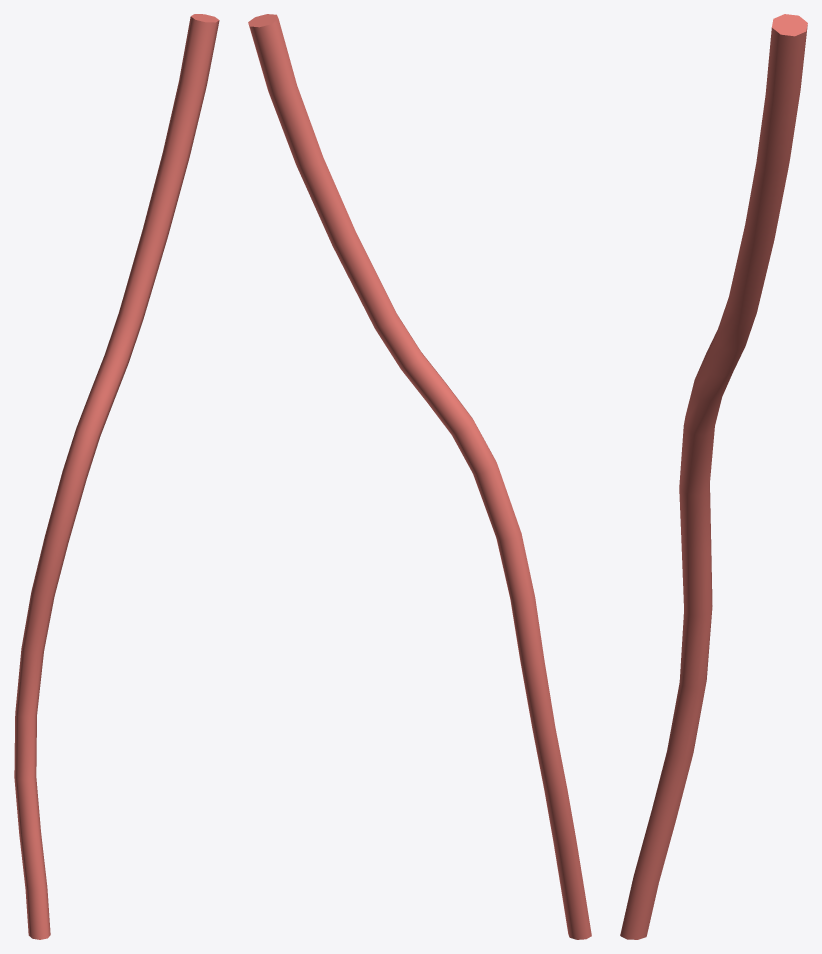
File: artere-radiale.glb
3 renders of one model, left to right at view 1: azimuth 30°, elevation 25°; view 2: azimuth 150°, elevation 25°; view 3: azimuth 270°, elevation 25°, orthographic. The views are drawn at different scales.
Parts seen in each view (by area): view 1: artere-radiale; view 2: artere-radiale; view 3: artere-radiale.
Boxes of the visible parts, x1,y1,x2,y2 form: artere-radiale: (14,14,219,939); artere-radiale: (248,14,591,939); artere-radiale: (620,14,807,939).
Bounding box in the file's own units: 0.039 × 0.1235 × 0.0199.
